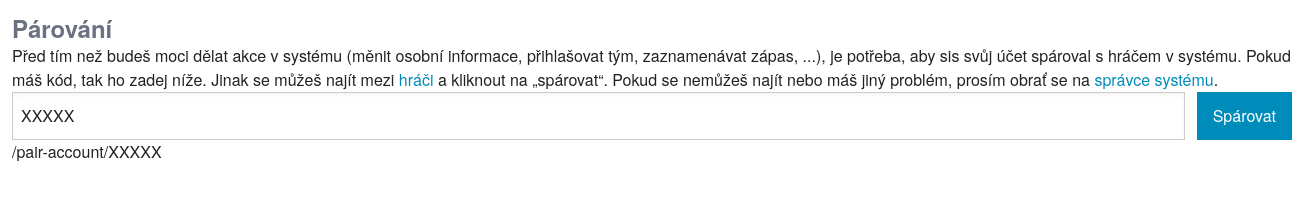
pairing error is shown inline
Click the button "Spárovat".
click(1244, 116)  # box [1197,92,1292,140]
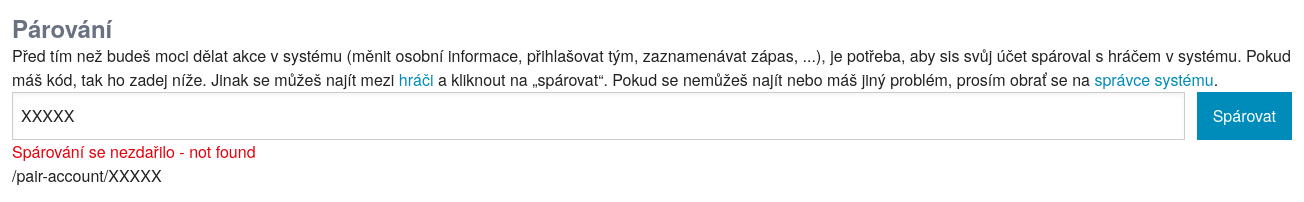
Expected: the text "Spárování se nezdařilo - not found" is shown, [12,140,256,163]
